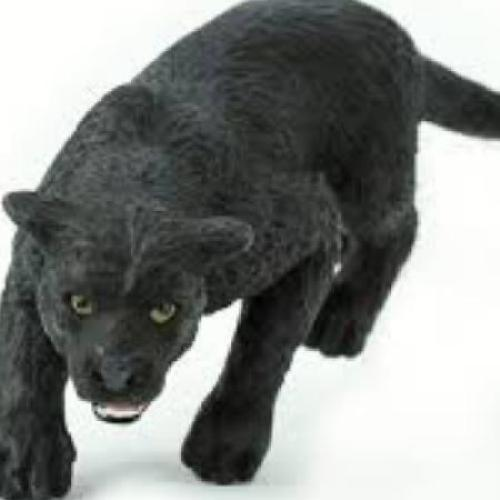panther-endangered: (12, 18, 479, 481)
